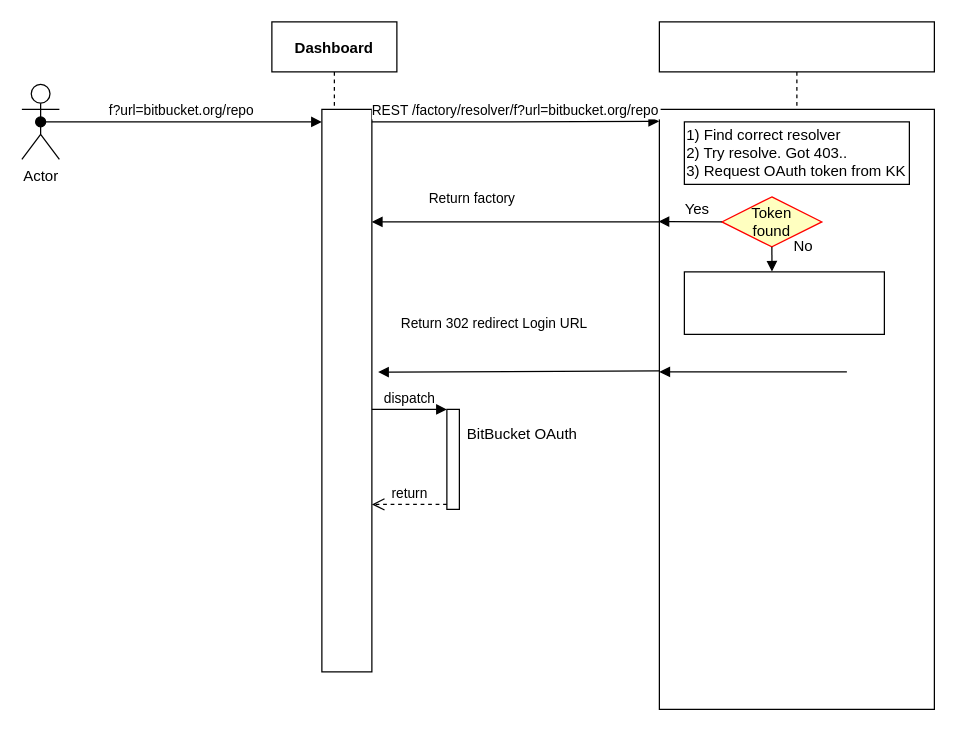
The diagram is 956 pixels wide and 731 high, and some of its shapes have lost their labels. Here are the shapes that lost their labels. From the top down, the box of each, then its label:
(683, 271, 884, 334): Construct Login URL
(658, 21, 934, 697): Che-server
